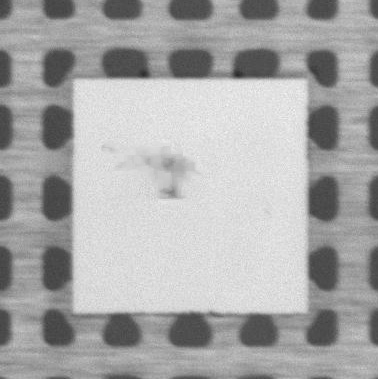DIE_INK: (148, 152, 190, 199)
